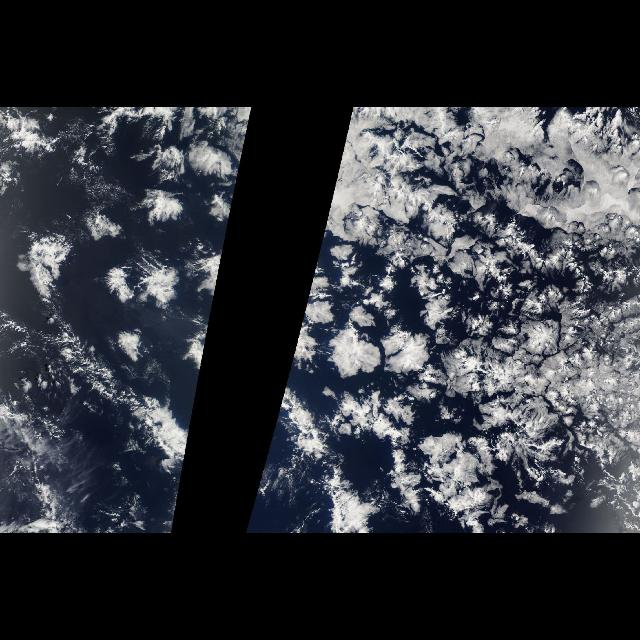Flower: (247, 124, 639, 526), (32, 120, 248, 518)
